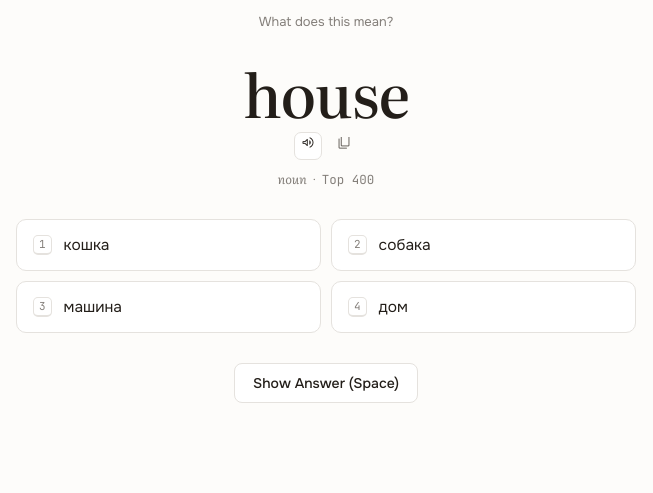
Scenario: FlashcardMode › does not advance and shows an error when saving fails, then succeeds on retry
Click the button with aria-label "show translation" at [326, 383], box [234, 363, 418, 403]
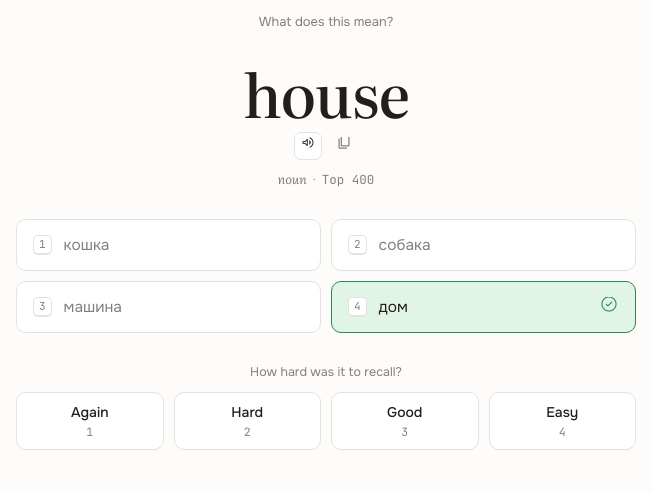
Click the button "Good 3" at [405, 421], box [331, 392, 478, 450]
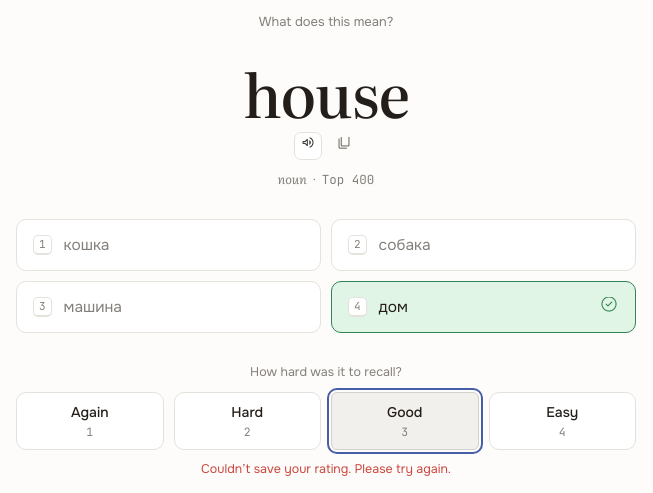
Click the button "Good 3" at [405, 421], box [331, 392, 478, 450]
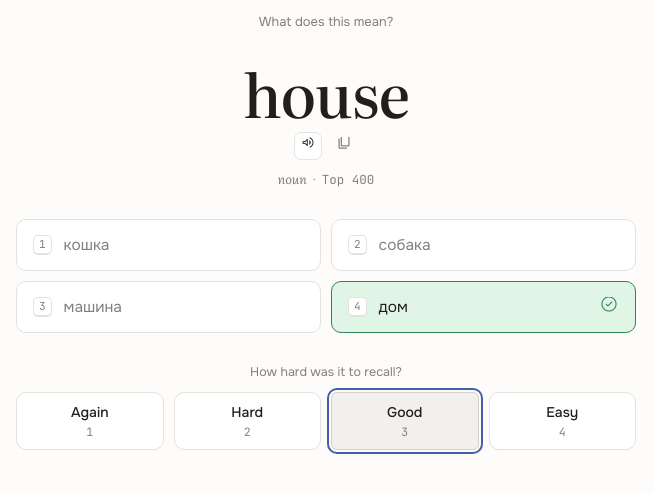
Check: the message "Couldn’t save your rating. Please try again." is gone
